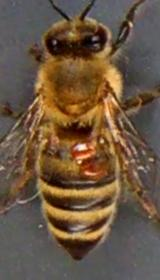varroa_mite: (71, 136, 111, 162), (74, 159, 108, 184)
